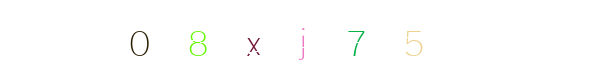0: (141, 0, 221, 80)
5: (317, 0, 397, 80)
7: (263, 0, 343, 80)
8: (158, 0, 238, 80)
J: (255, 0, 335, 80)
X: (178, 0, 258, 80)
